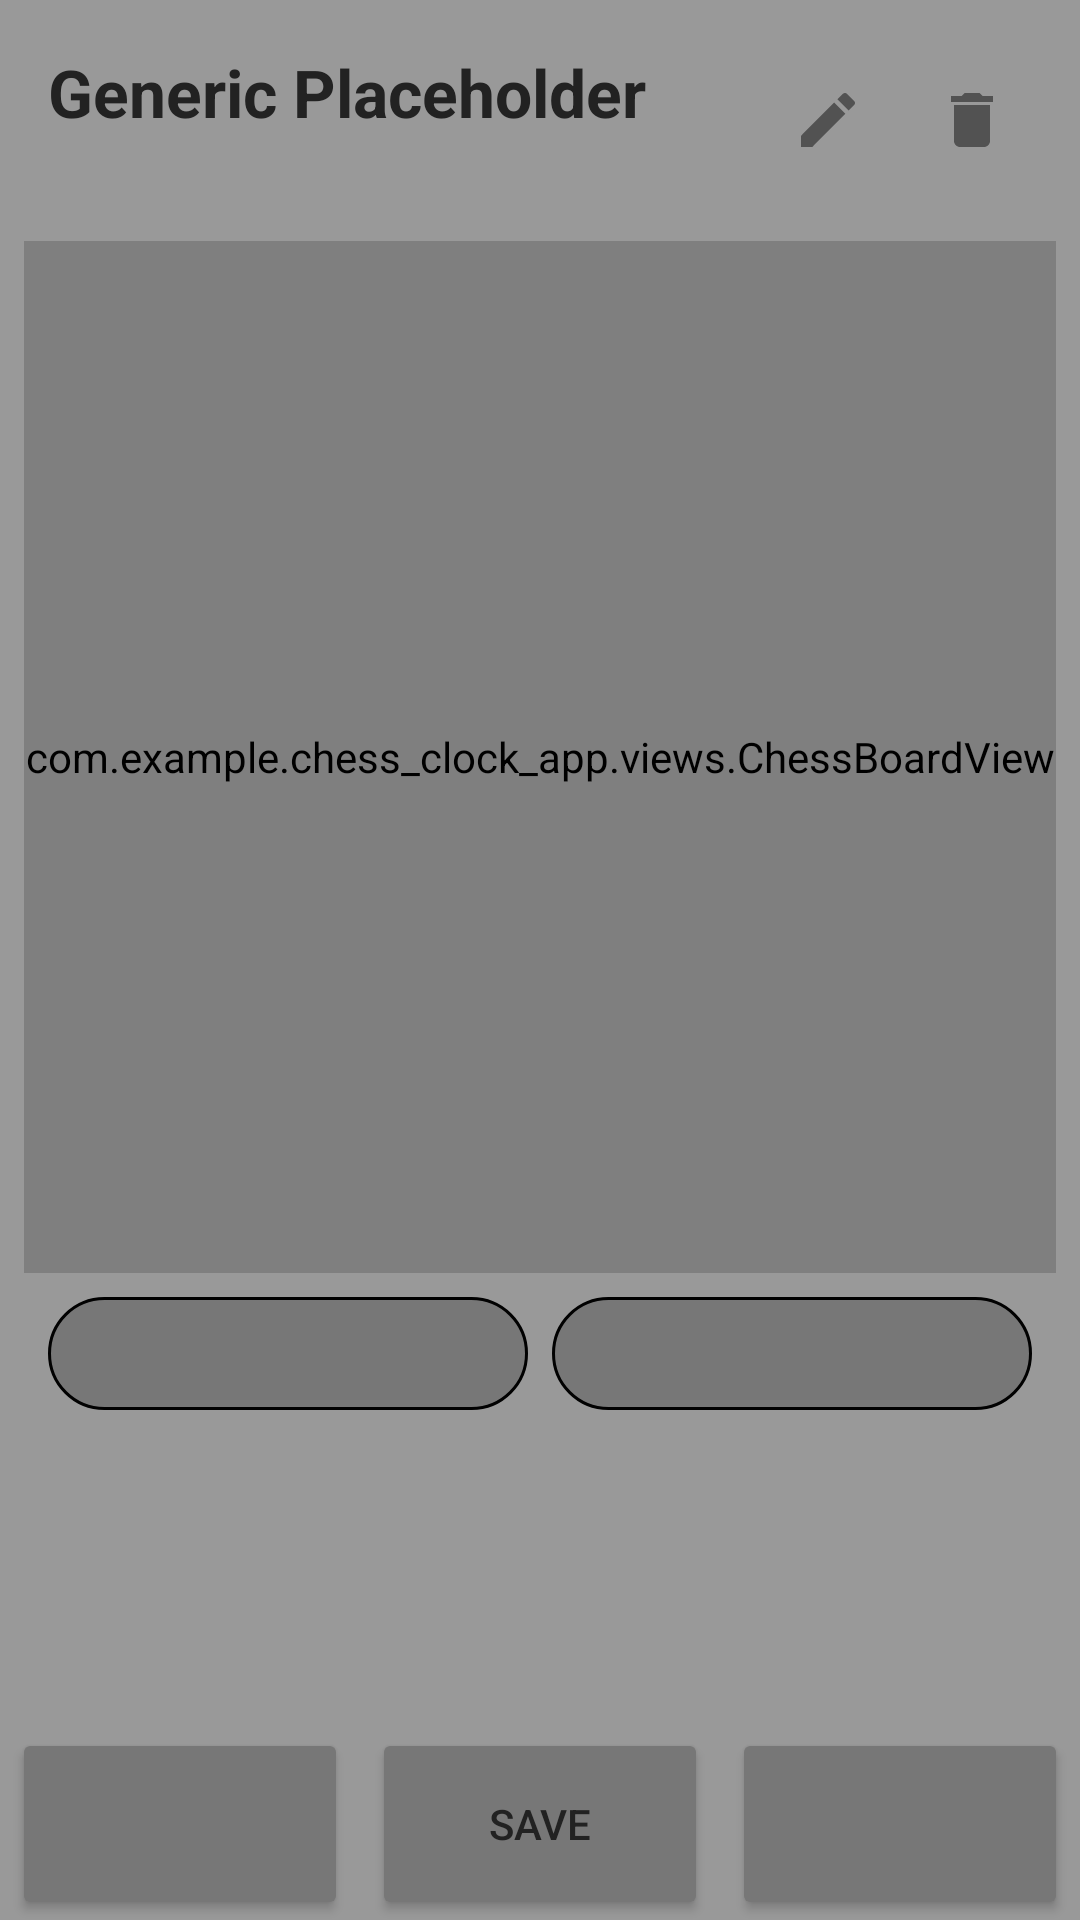

Where icons sit on this 1080 × 1920 app screen, as (x1, y1, x2, y2):
Edit game details: (801, 93, 855, 147)
